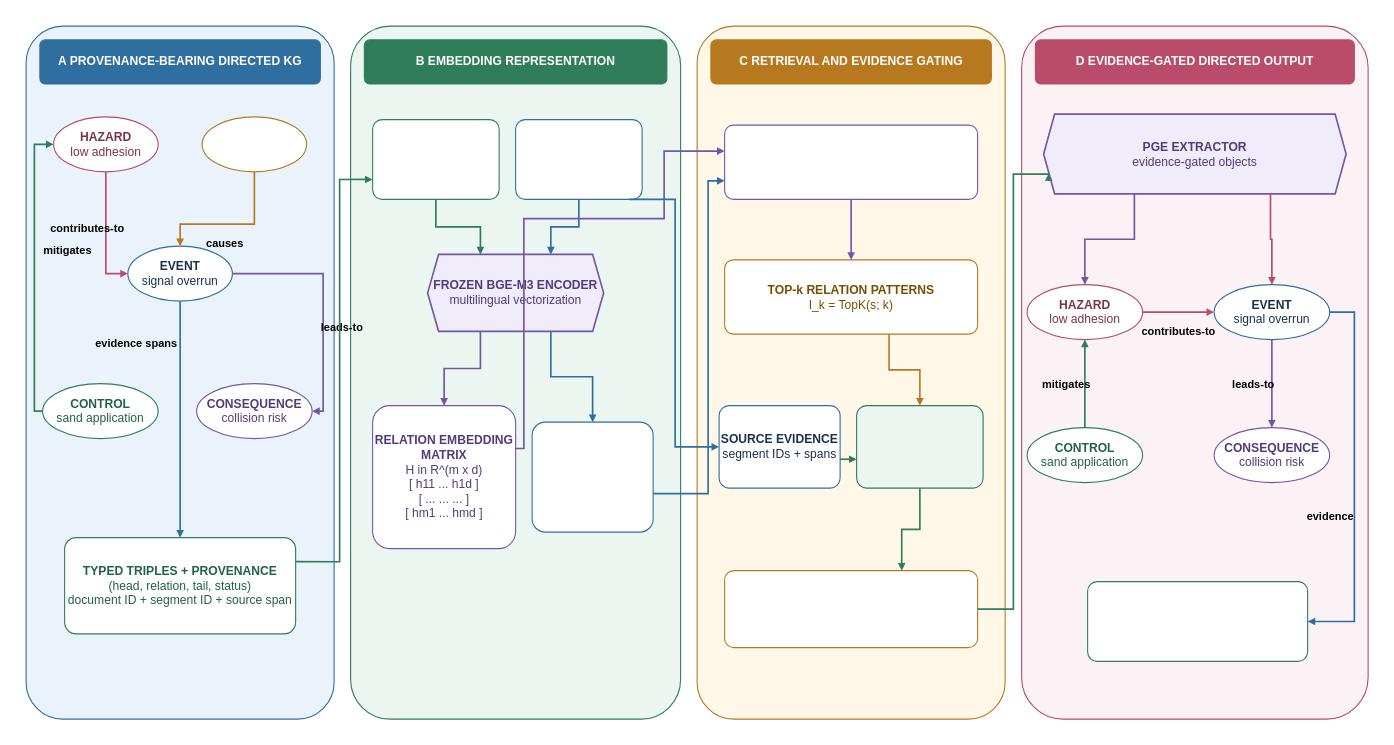
This 1394x745 diagram has some shape labels left out. Here are the shapes that lost their labels. From the top down, the centre of each, then its label:
the point at 254,144: FAILURE wheel slide
the point at 435,159: GRAPH TEXT RECORDS typed relations + provenance
the point at 578,159: CURRENT SOURCE WINDOW authoritative report text
the point at 851,162: SIMILARITY TRANSFORMATION s = Hq in R^m
the point at 919,446: SOURCE-EVIDENCE FILTER eligible graph hints
the point at 592,476: QUERY VECTOR q in R^d [ q1 ... qd ]^T
the point at 851,609: BOUNDED HRGE CONTEXT ranked patterns are hints; source text is authoritative
the point at 1197,621: TRACEABLE OUTPUT document ID + segment ID evidence spans + claim status
